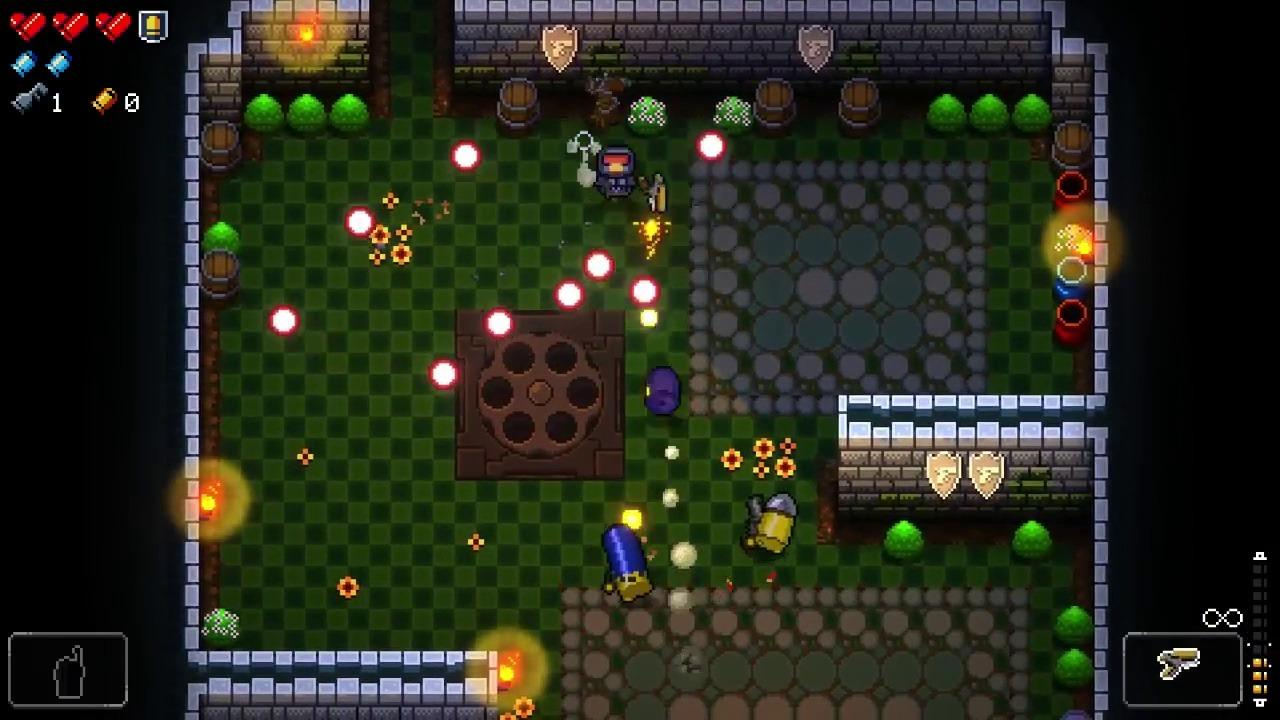blue_shotgun_kin: (601, 524, 655, 602)
bullet: (346, 208, 375, 240), (429, 360, 458, 391), (451, 143, 481, 172), (272, 306, 299, 337), (585, 251, 614, 279), (631, 276, 658, 306), (699, 132, 726, 161), (486, 310, 513, 339), (556, 281, 583, 309)
bullet_kin: (756, 494, 797, 555)
player: (597, 147, 636, 202)
rubber_kin: (643, 366, 683, 415)
teleporter: (456, 309, 626, 480)
